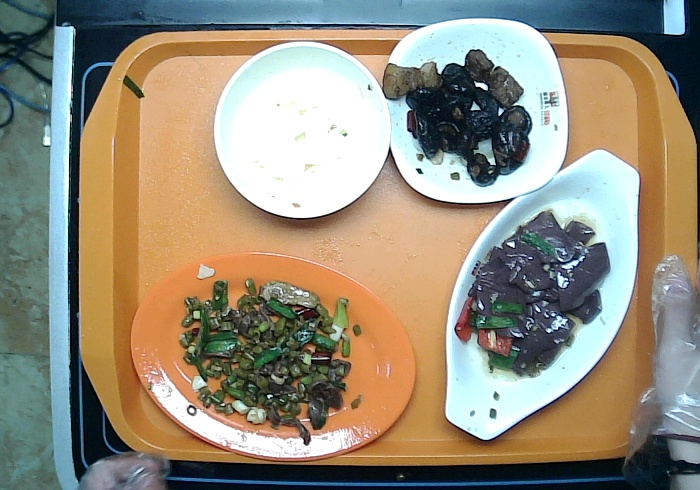NLDX-Bai_Se_Xiao_Fang_Die: (383, 17, 569, 204)
NLDX-Fan_Wan: (213, 41, 392, 219)
NLDX-Ju_Se_Pan: (130, 251, 416, 462)
NLDX-Yu_Pan: (443, 149, 641, 442)
